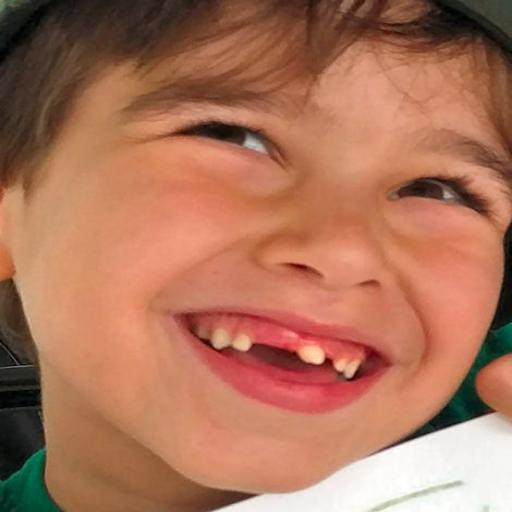Autism: (6, 10, 512, 507)
